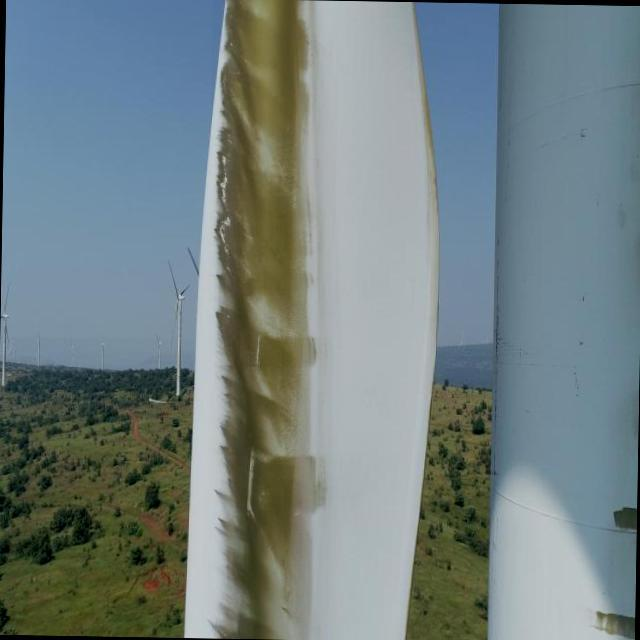Dirt: (212, 0, 328, 638)
